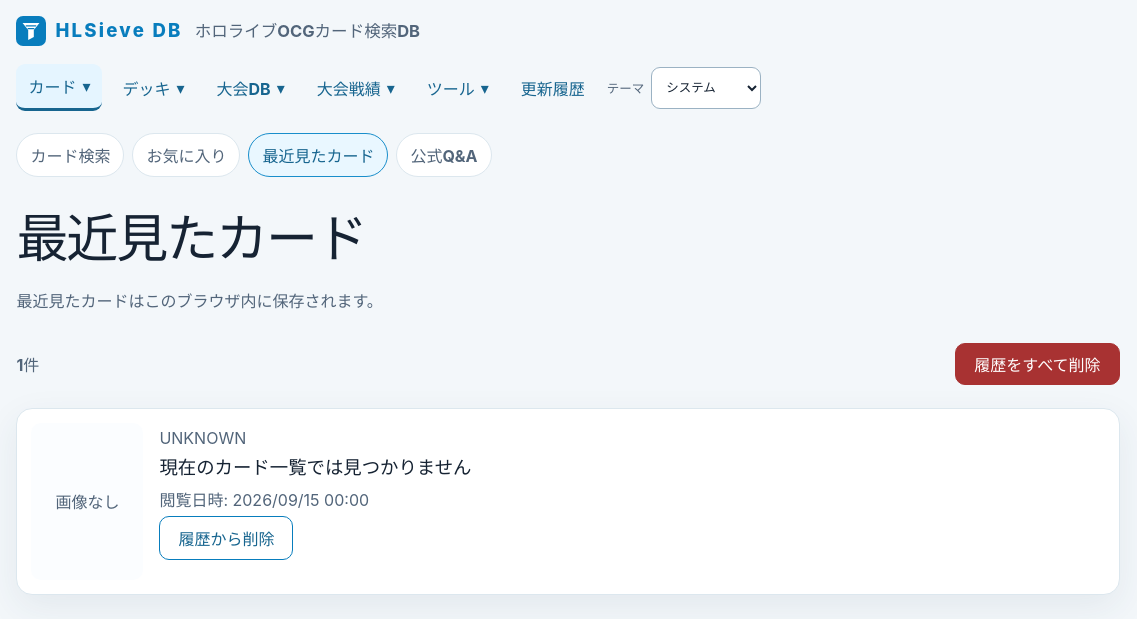
RecentlyViewedCardsPage › keeps an unknown card visible without a detail link and allows removal
The width and height of the screenshot is (1137, 619).
Check: the heading "現在のカード一覧では見つかりません" is shown, box [159, 456, 472, 478]
Click the button with aria-label "UNKNOWNを最近見たカードから削除" at (226, 538), box [159, 516, 293, 560]
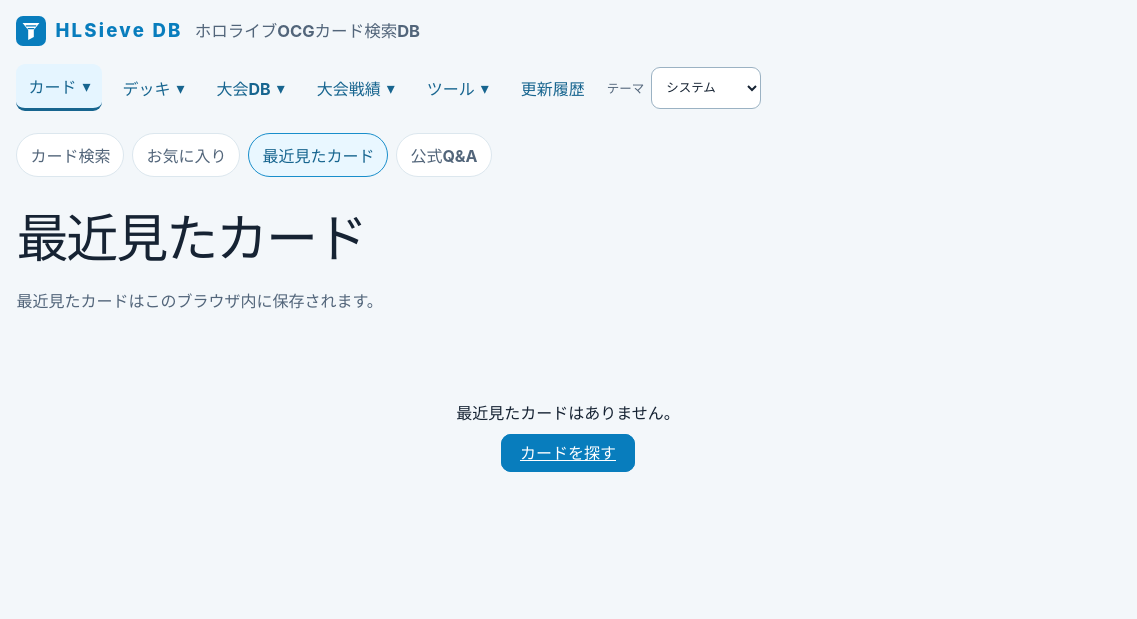
Check: the text "最近見たカードはありません。" is shown, box [456, 403, 680, 423]
